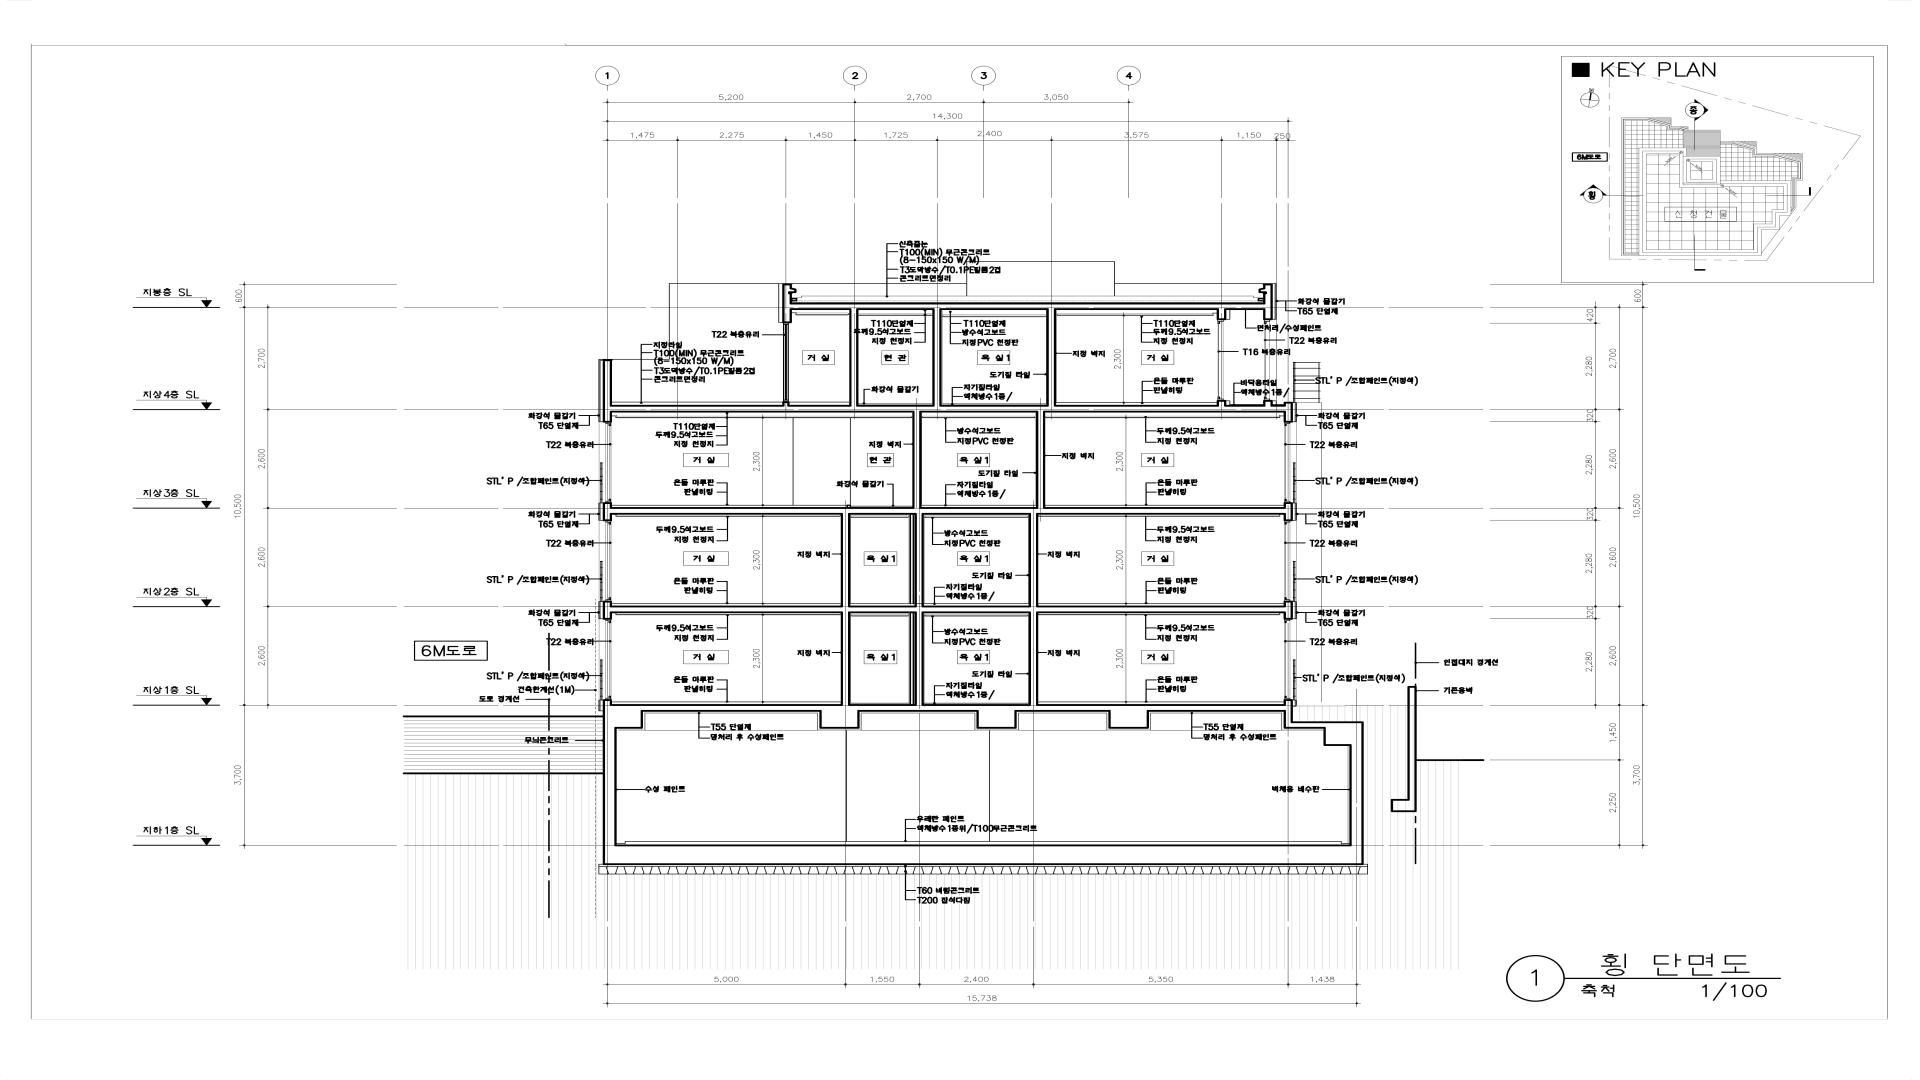wall: (603, 845, 1364, 865), (612, 404, 1284, 413), (612, 507, 1284, 515), (612, 606, 1283, 613), (792, 303, 1263, 310), (603, 729, 617, 844), (1349, 746, 1364, 844), (643, 704, 819, 712), (1149, 704, 1283, 712), (819, 704, 860, 729), (976, 704, 1017, 729), (1108, 704, 1149, 729), (1323, 721, 1364, 746), (603, 704, 643, 729), (932, 310, 942, 404), (1046, 310, 1056, 404), (912, 413, 922, 507), (860, 704, 976, 712), (1028, 515, 1038, 606), (914, 613, 924, 704), (1028, 613, 1038, 704), (841, 515, 851, 605), (914, 515, 924, 605), (849, 310, 858, 405), (1036, 413, 1045, 507), (841, 613, 850, 704), (1017, 704, 1108, 712), (603, 359, 612, 423), (782, 283, 792, 323), (1263, 283, 1273, 320), (1284, 721, 1323, 729), (1284, 699, 1293, 721), (1284, 402, 1293, 423), (1284, 502, 1293, 521), (603, 601, 612, 620), (1284, 601, 1293, 620), (603, 502, 612, 521), (1217, 310, 1226, 320), (603, 699, 612, 704), (1263, 400, 1273, 404), (1217, 400, 1226, 404), (782, 401, 790, 405), (792, 288, 797, 293), (1259, 288, 1263, 293), (792, 298, 797, 301), (1258, 298, 1263, 301)
window: (1217, 320, 1224, 400), (605, 521, 611, 601), (1284, 521, 1290, 601), (1264, 320, 1270, 400), (605, 620, 611, 699), (605, 423, 611, 502), (1284, 620, 1290, 699), (1284, 423, 1290, 502), (783, 323, 789, 401)
